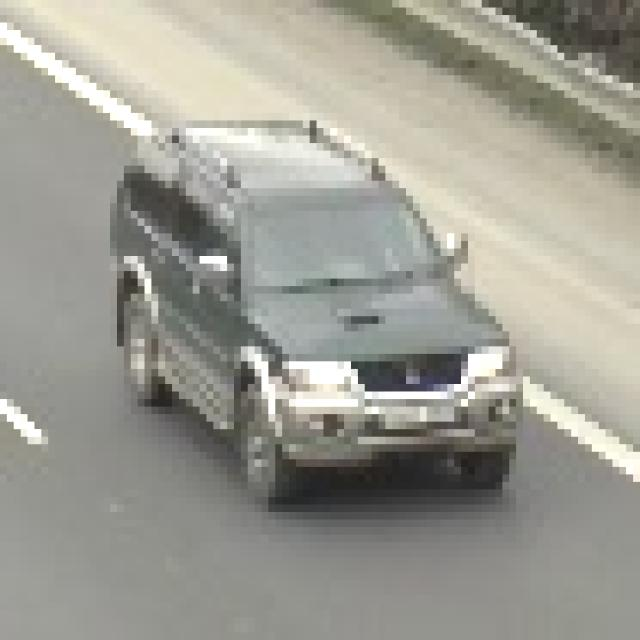SUV: (125, 129, 505, 494)
